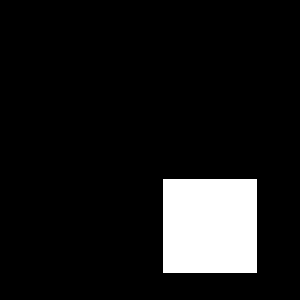circle: (163, 179, 257, 273)
